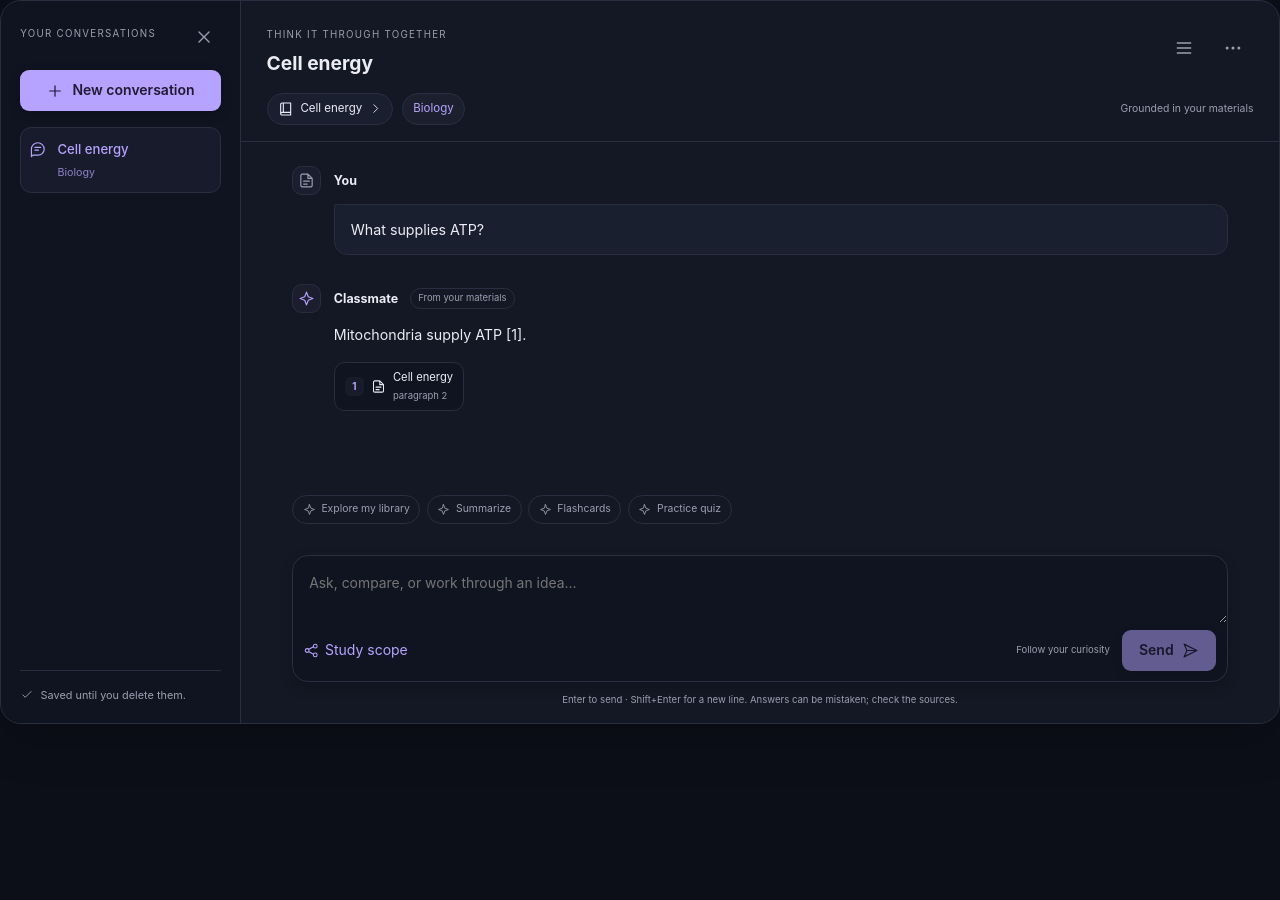
Test: Complete study-chat interface › lets the user change materials, topic focus, and general-explanation policy
Expected: the text "Mitochondria supply ATP [1]." is shown, [334, 326, 526, 343]
Click the button "Cell energy": (330, 109) [267, 93, 393, 125]
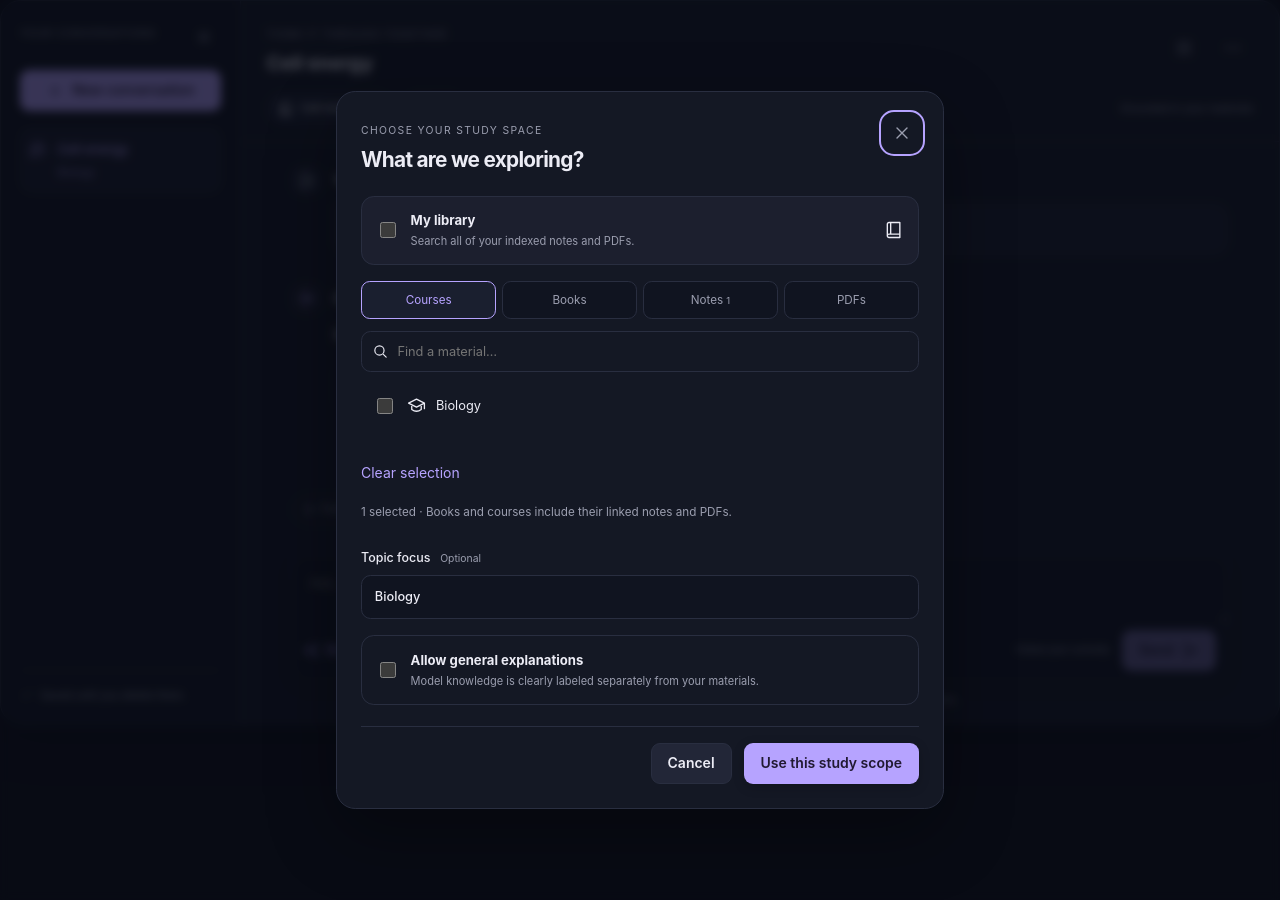
Replace the text in the field labelled "Topic focus Optional" with "Respiration": (640, 597) [361, 575, 919, 620]
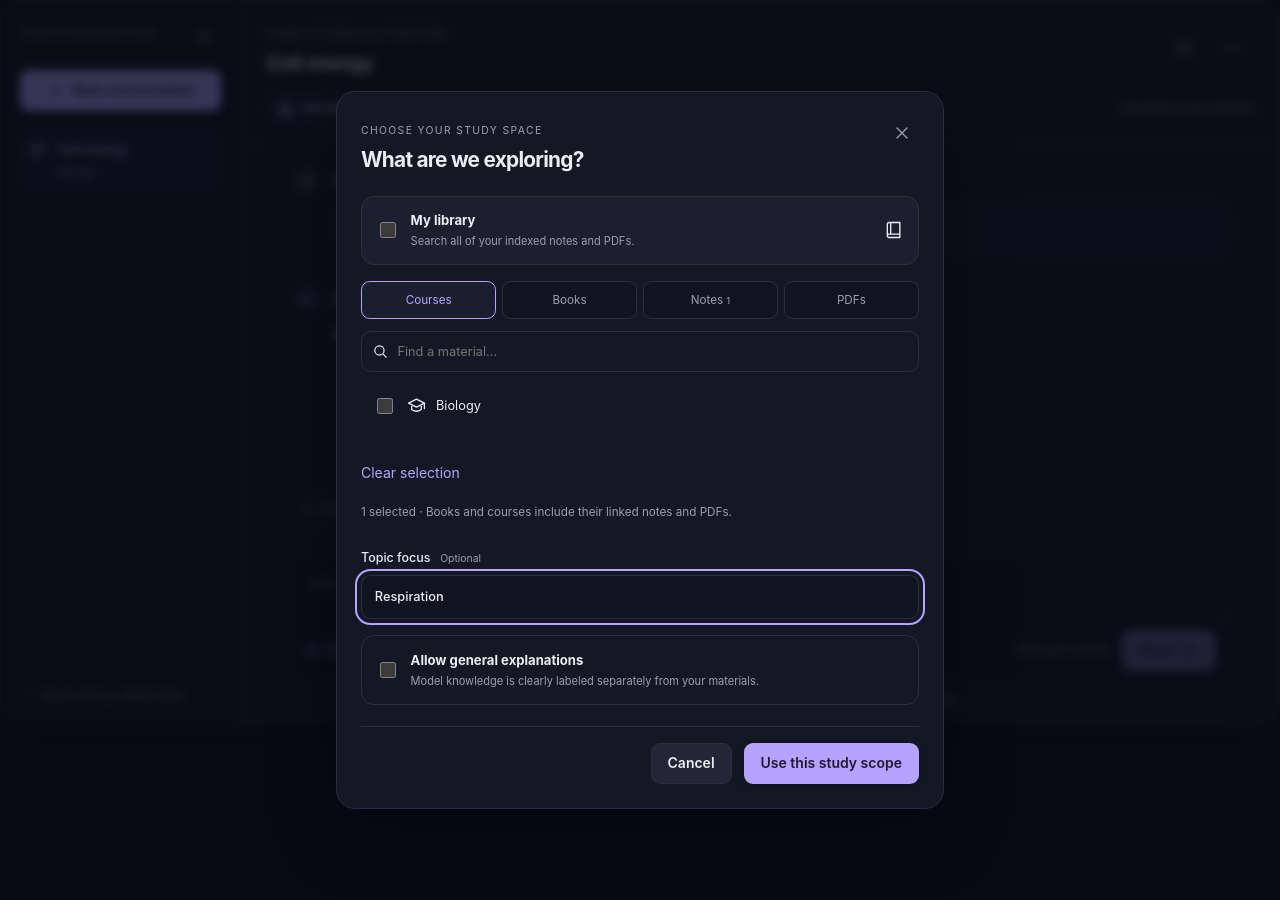
Click the checkbox labelled "Allow general explanations": (388, 670) [380, 662, 396, 678]
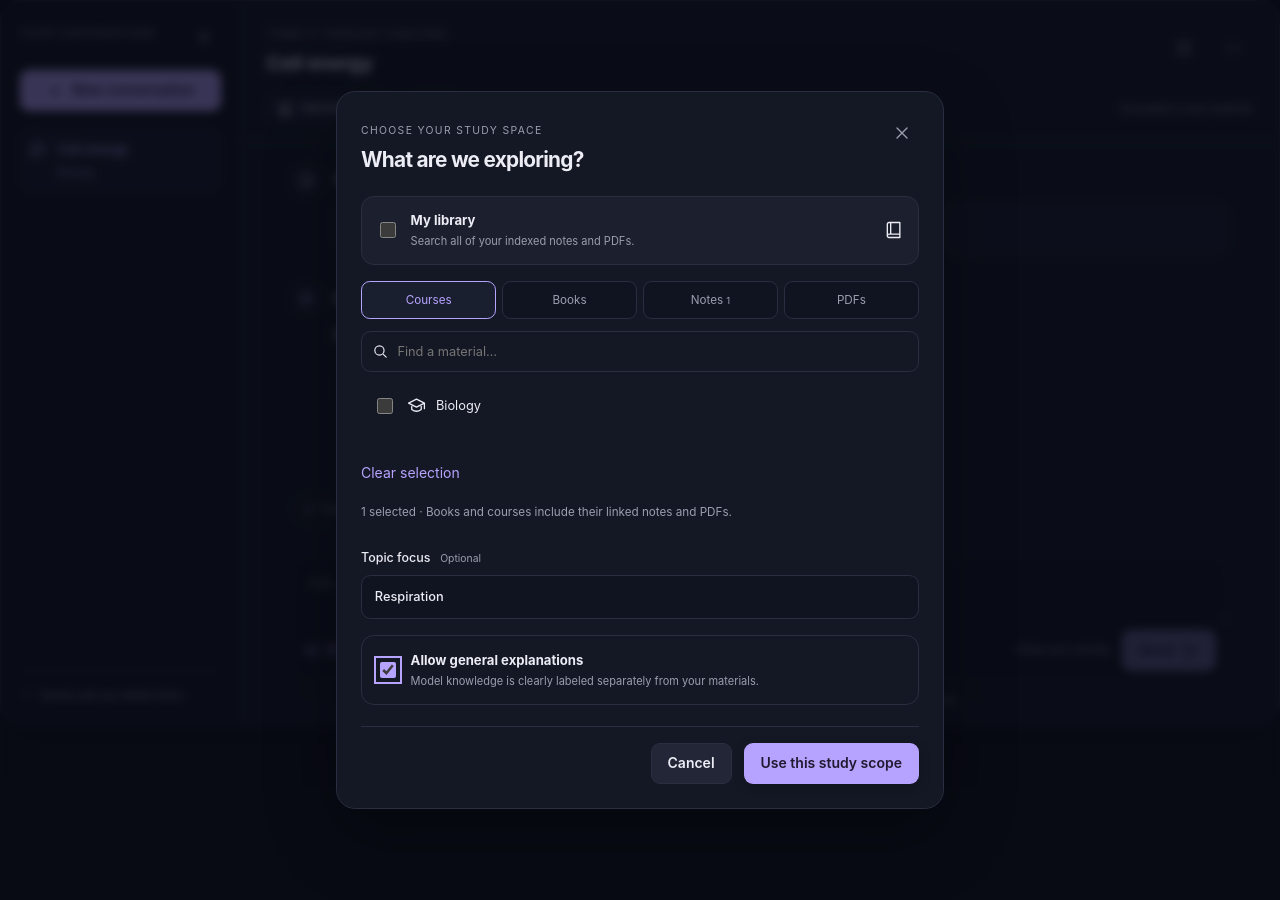
Click the button "Use this study scope": (831, 763) [744, 743, 919, 784]
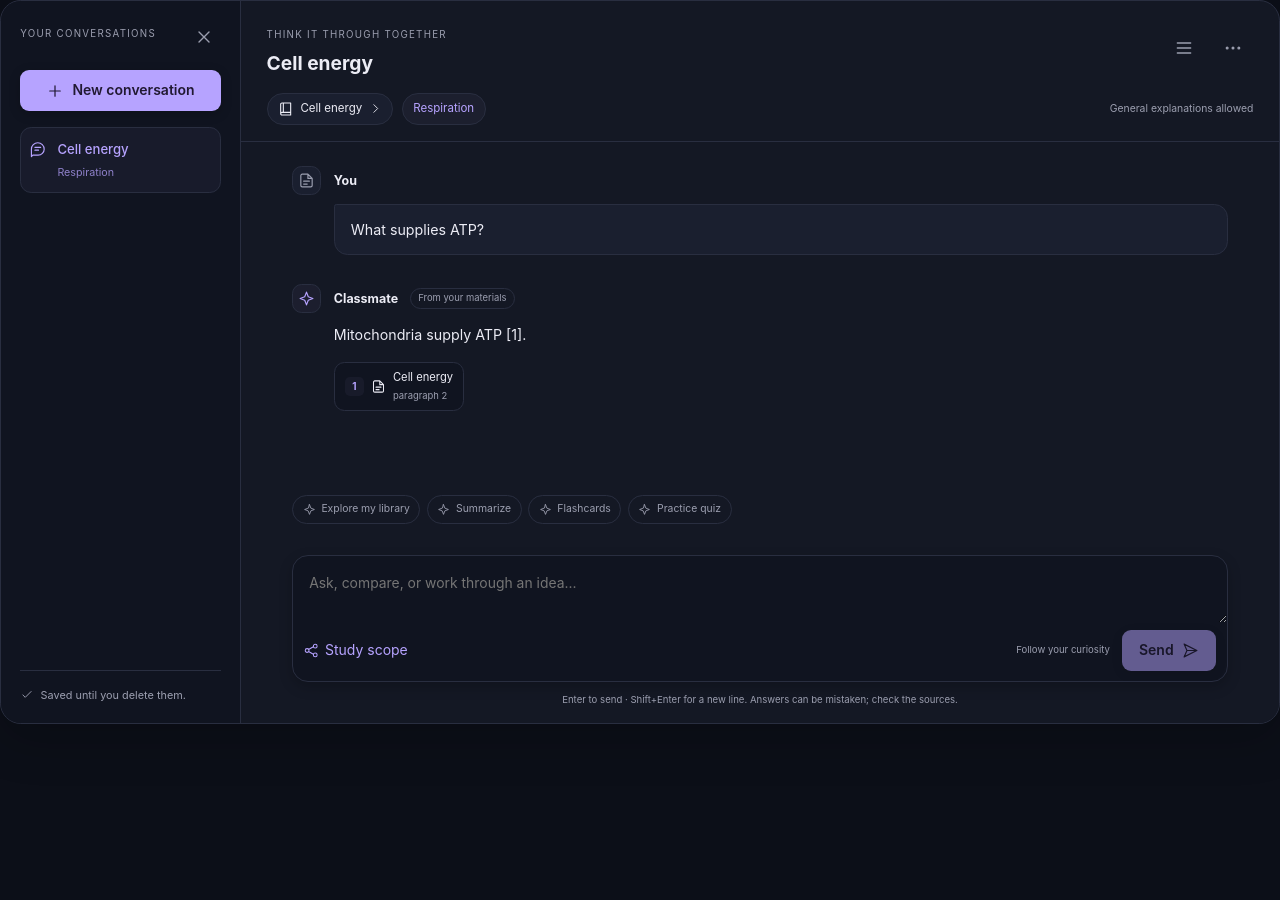
Now the text "Respiration" below "Your conversations" is shown, box [57, 166, 114, 178]
